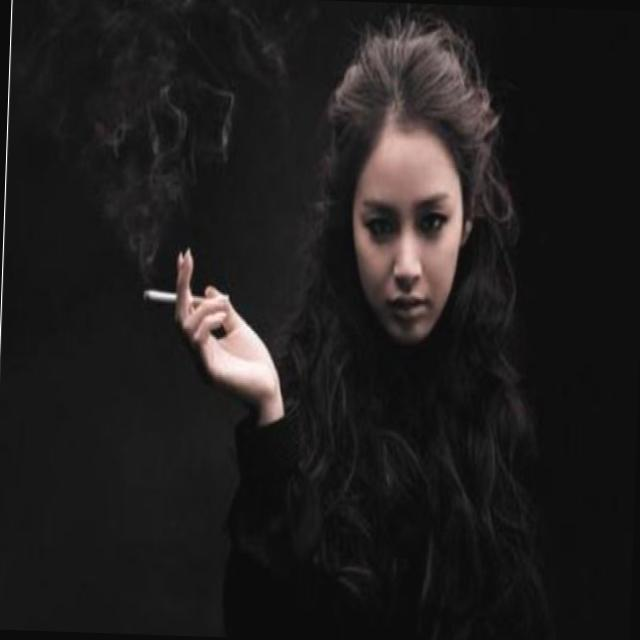cigarette: (137, 286, 221, 312)
